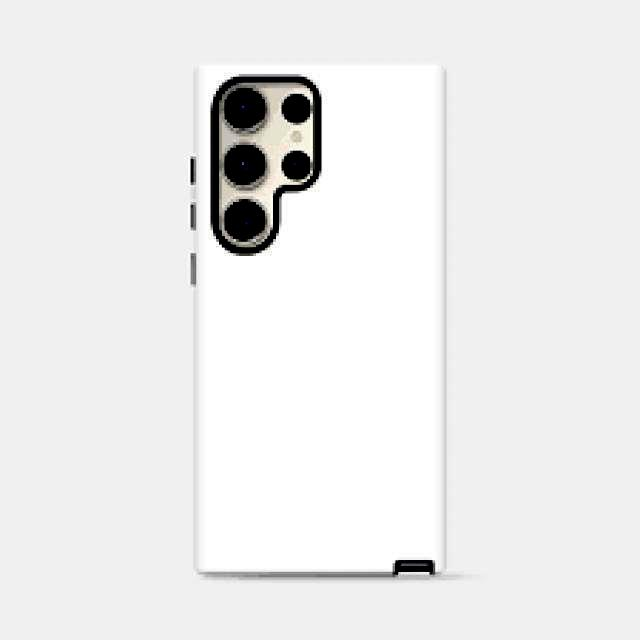lens_back: (220, 82, 270, 138), (221, 142, 269, 188), (221, 196, 269, 242), (278, 146, 312, 184), (278, 89, 314, 124)
phone: (180, 52, 447, 577)
